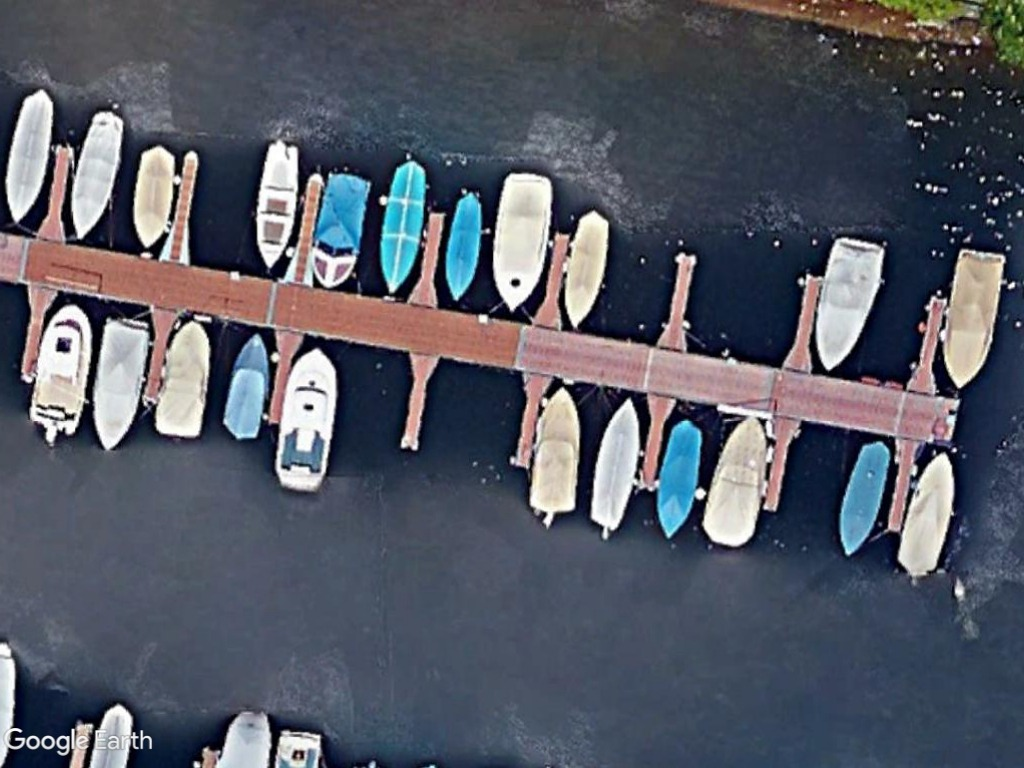boat: (268, 338, 344, 496), (809, 233, 889, 378), (489, 160, 560, 318), (25, 294, 97, 444), (936, 244, 1008, 393), (697, 414, 773, 554), (580, 391, 650, 542), (522, 378, 593, 522), (84, 311, 153, 457), (896, 449, 963, 583), (71, 104, 130, 245), (151, 317, 215, 444), (832, 439, 898, 560), (376, 153, 431, 298), (304, 168, 371, 286), (4, 82, 57, 228), (650, 413, 706, 540), (559, 204, 614, 331), (218, 326, 273, 447), (254, 133, 300, 273), (440, 185, 490, 306), (131, 137, 180, 254)
